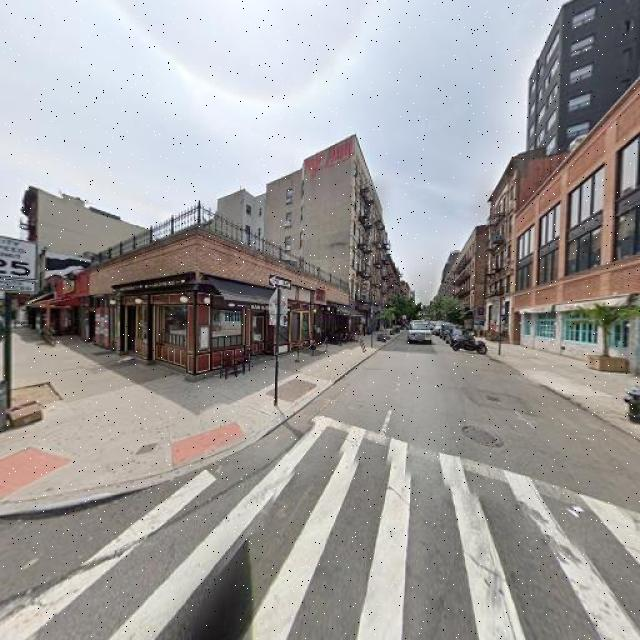Building: (502, 92, 640, 374), (93, 230, 349, 382)
